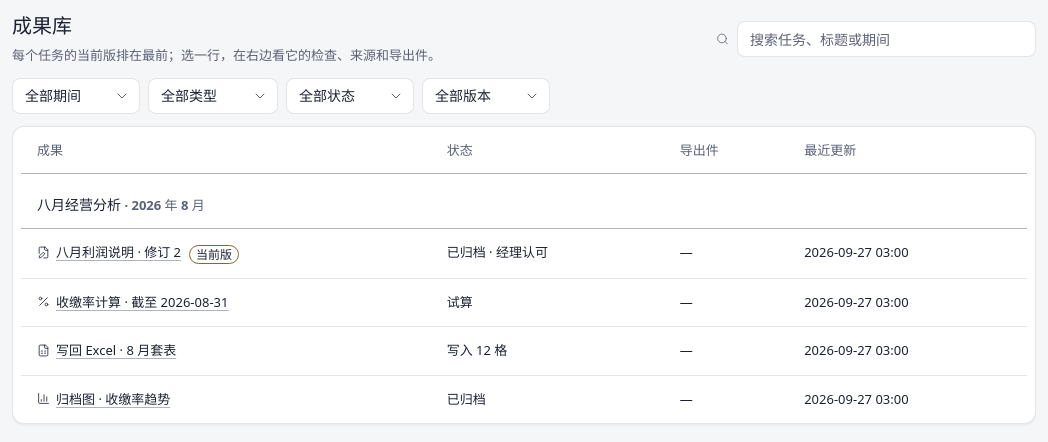
Test: the 成果库 list › lists 归档图, 写回 Excel and 收缴率 runs beside the 文稿
expect the cell "试算" is shown: met, box [431,278,664,326]
expect the cell "写入 12 格" is shown: met, box [431,326,664,375]
Step 1. Select "收缴率计算" in the dropdown named "类型" → (213, 96), box [148,78,278,114]
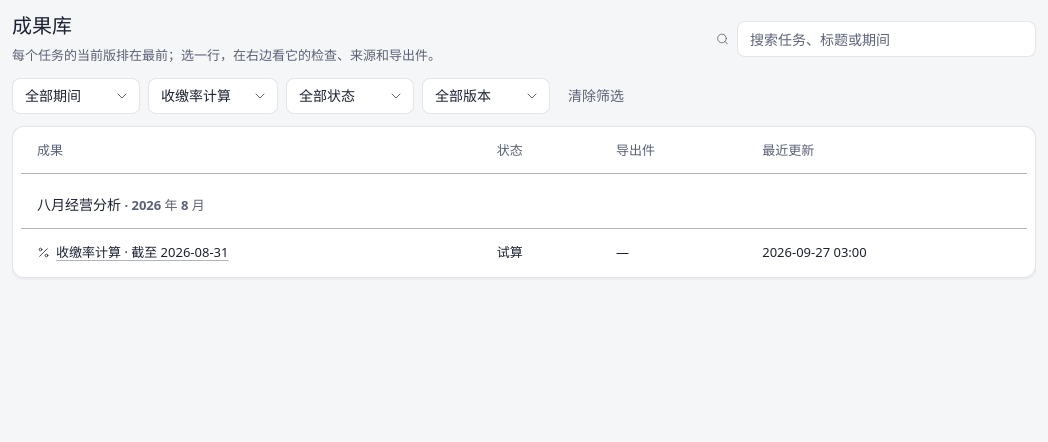
expect the button "收缴率计算 · 截至 2026-08-31" is shown: met, box [37,241,228,263]
expect the button "八月利润说明 · 修订 2" is gone: met
